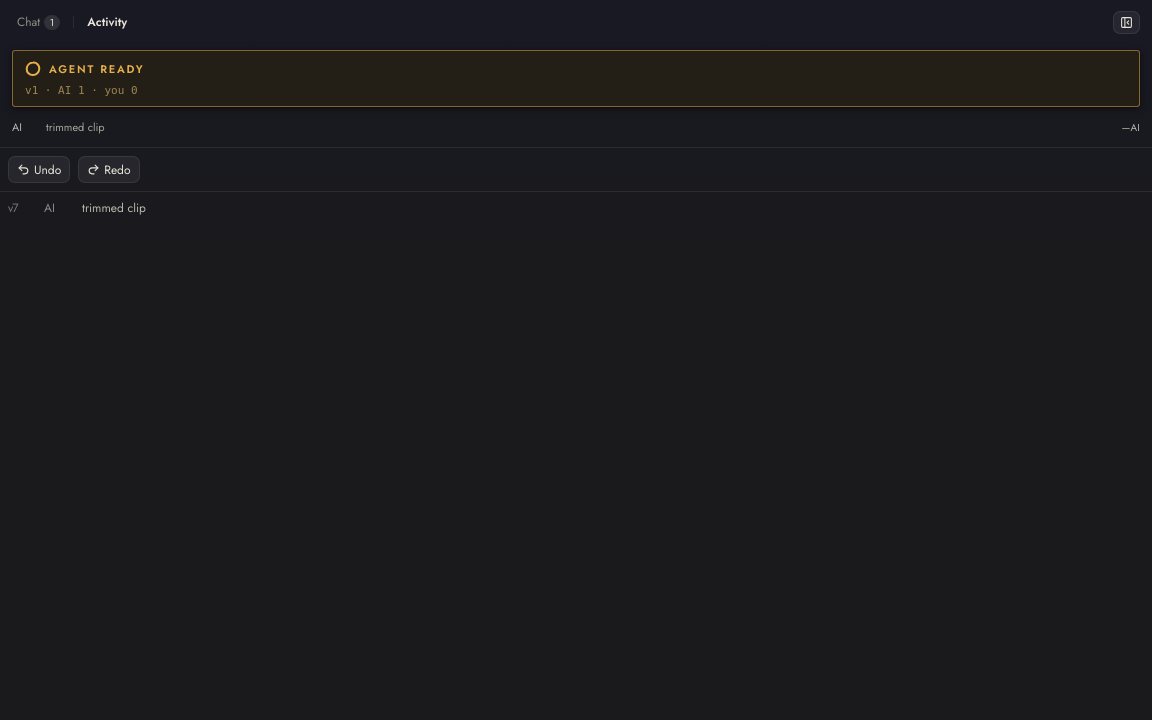
Scenario: AI column tabs › switching tabs swaps the body (only one of the two is mounted)
This screenshot has width=1152, height=720.
Click the button with class "tab-link" showing "Chat 1" at (39, 22), box [12,10,65,34]
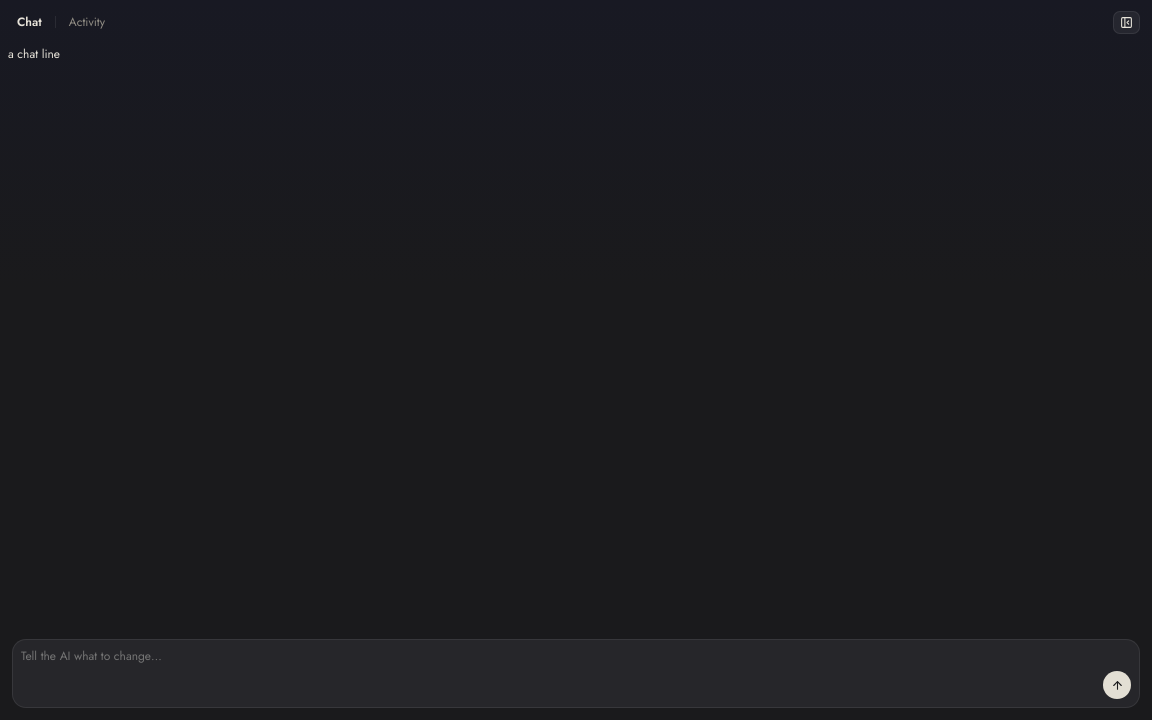
Expected: the text "a chat line" is shown, [8,46,60,63]
Click the button with class "tab-link" showing "Activity" at (87, 22), box [64,10,110,34]
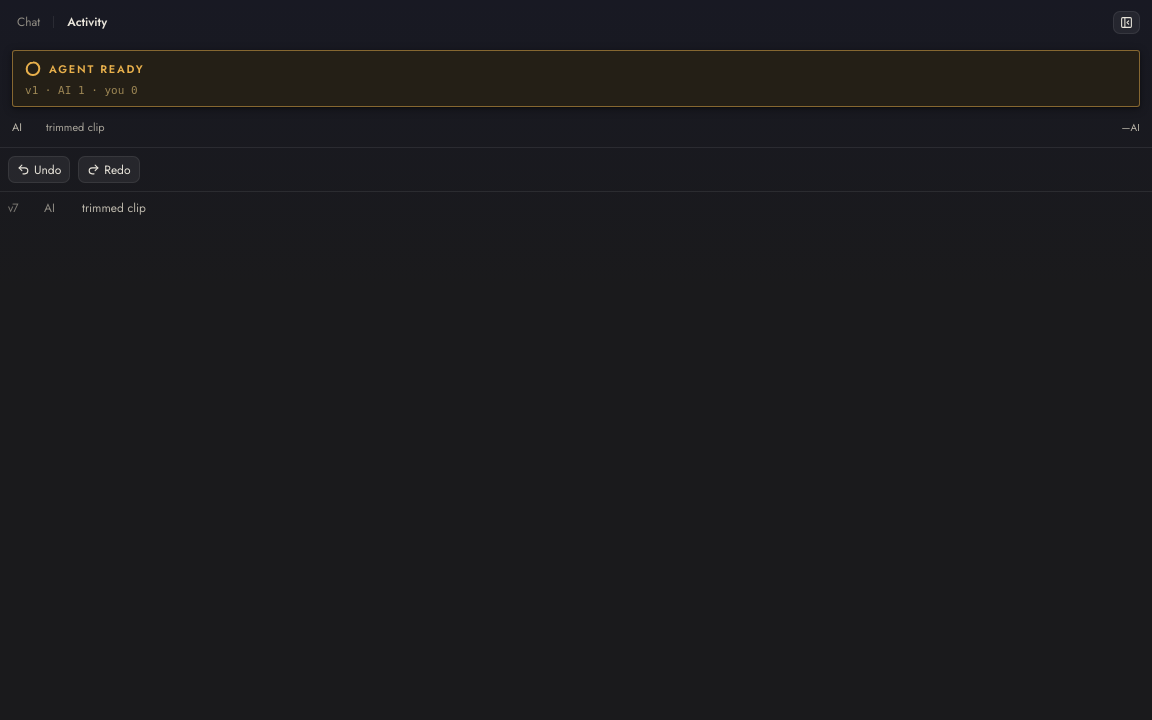
Expected: the element that starts with "Agent ready" shows "trimmed clip", [46,119,105,135]
Expected: the text "a chat line" is gone
